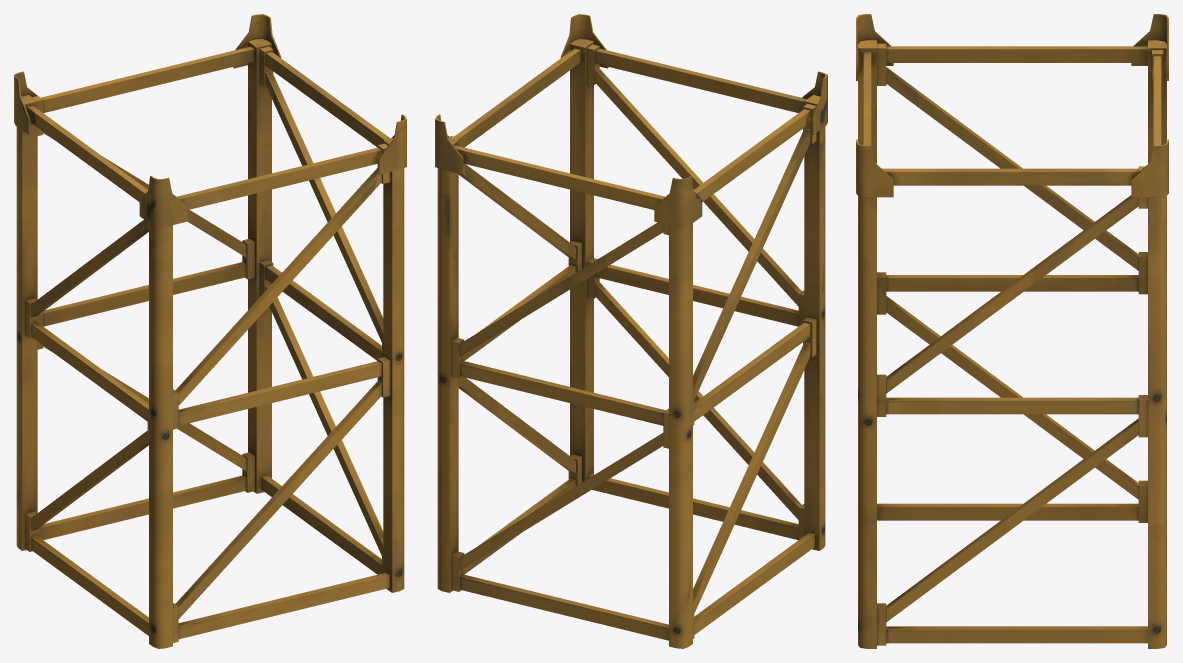
3 views of the same model, side by side, from view 1: azimuth 30°, elevation 25°; view 2: azimuth 150°, elevation 25°; view 3: azimuth 270°, elevation 25° (orthographic). The views are drawn at different scales.
Visible parts, largest first — view 1: body0_model0_lod0_mesh0; view 2: body0_model0_lod0_mesh0; view 3: body0_model0_lod0_mesh0.
Boxes of the visible parts, x1,y1,x2,y2 form: body0_model0_lod0_mesh0: (14, 14, 406, 648); body0_model0_lod0_mesh0: (435, 14, 827, 648); body0_model0_lod0_mesh0: (856, 14, 1168, 648).
Bounding box in the file's own units: 114 × 202 × 114.
Materials: 1 (1 with a texture image).
